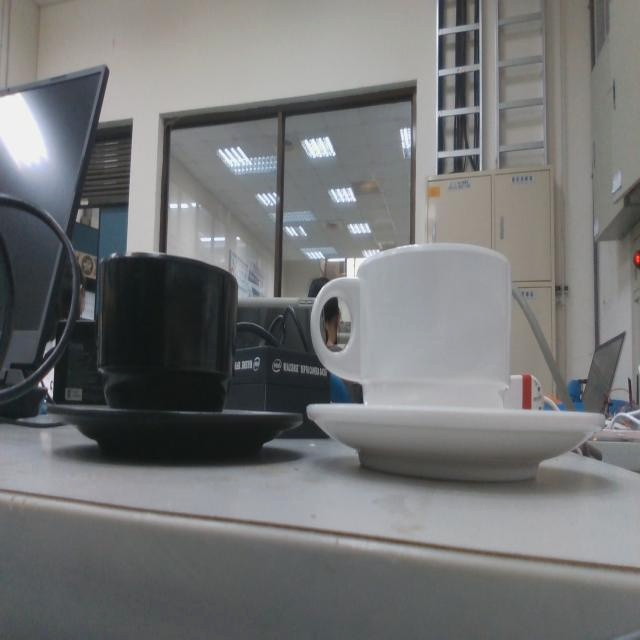black: (44, 248, 304, 465)
white: (305, 236, 607, 485)
